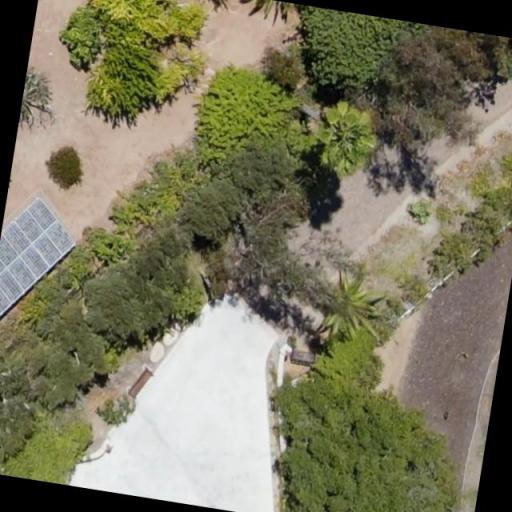solar-panel: (0, 195, 77, 317)
